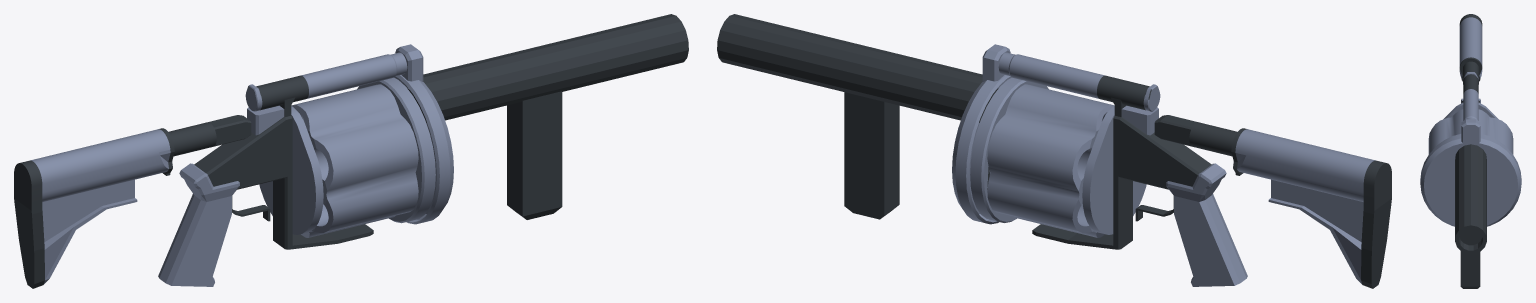
File: GrenadeLauncher.fbx
3 renders of one model, left to right at view 1: azimuth 30°, elevation 25°; view 2: azimuth 150°, elevation 25°; view 3: azimuth 270°, elevation 25°, orthographic. The views are drawn at different scales.
Visible parts, largest first — view 1: GrenadeLauncher; view 2: GrenadeLauncher; view 3: GrenadeLauncher.
Boxes of the visible parts, bbox=[...] form: GrenadeLauncher: bbox=[14, 14, 688, 288]; GrenadeLauncher: bbox=[717, 14, 1391, 288]; GrenadeLauncher: bbox=[1420, 14, 1521, 288].
Size of the model in its own units: 198 by 56.47 by 41.58.
